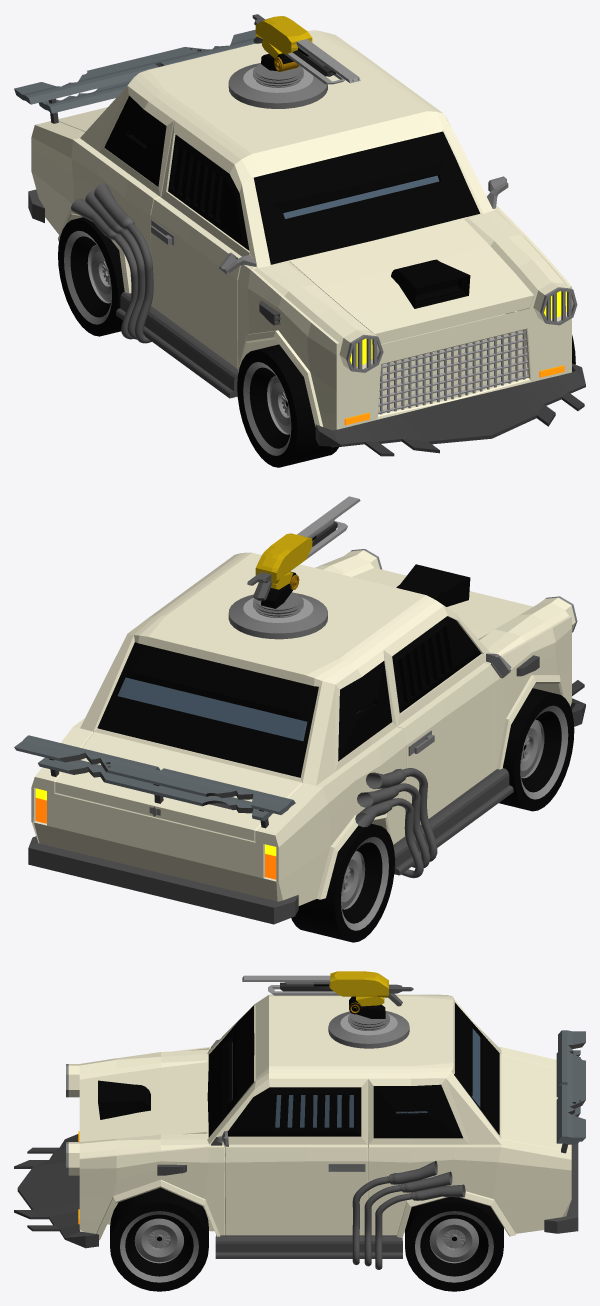
Rendered from Tarabant final versionLTS .fbx.
The picture shows the model from 3 angles, top to bottom: view 1: azimuth 30°, elevation 25°; view 2: azimuth 150°, elevation 25°; view 3: azimuth 270°, elevation 25°; orthographic projection. The views are drawn at different scales.
Parts seen in each view (by area): view 1: Car, kapot, front glass armor, Taran, glass armor, wheel.001, wheel.003, Radiator, Spoiler, muffles, Railgun, Thresholds (+3 smaller); view 2: Car, back glass armor, glass armor, Spoiler, wheel.003, back bumper, wheel.001, kapot, Railgun, muffles, Thresholds, rail gun stand (+1 smaller); view 3: Car, glass armor, kapot, wheel, wheel.002, Taran, muffles, Thresholds, Railgun, front glass armor, Spoiler, back glass armor (+3 smaller).
Part boxes in pixels (x1,y1,x2,y2): Car: (31, 30, 573, 430); kapot: (290, 219, 533, 343); front glass armor: (254, 131, 480, 264); Taran: (315, 363, 585, 456); glass armor: (104, 95, 249, 250); wheel.001: (237, 344, 338, 467); wheel.003: (58, 217, 124, 336); Radiator: (378, 330, 528, 414); Spoiler: (14, 29, 256, 123); muffles: (71, 183, 153, 343); Railgun: (252, 14, 360, 84); Thresholds: (116, 292, 238, 398); Car: (31, 550, 575, 905); back glass armor: (97, 642, 318, 777); glass armor: (338, 616, 481, 761); Spoiler: (14, 735, 295, 828); wheel.003: (291, 823, 394, 942); back bumper: (28, 836, 298, 924); wheel.001: (499, 688, 574, 811); kapot: (352, 564, 532, 639); Railgun: (247, 496, 360, 608); muffles: (355, 768, 437, 878); Thresholds: (393, 768, 513, 875); rail gun stand: (228, 593, 327, 639); Car: (68, 994, 571, 1240); glass armor: (227, 1084, 462, 1138); kapot: (79, 1062, 207, 1141); wheel: (110, 1187, 208, 1291); wheel.002: (405, 1197, 503, 1291); Taran: (14, 1134, 98, 1248); muffles: (352, 1161, 465, 1269); Thresholds: (215, 1235, 402, 1258); Railgun: (242, 971, 413, 1018); front glass armor: (207, 1006, 254, 1137); Spoiler: (556, 1030, 585, 1153); back glass armor: (454, 1002, 499, 1134).
Bounding box in the file's own units: 570 × 571 × 1138.
